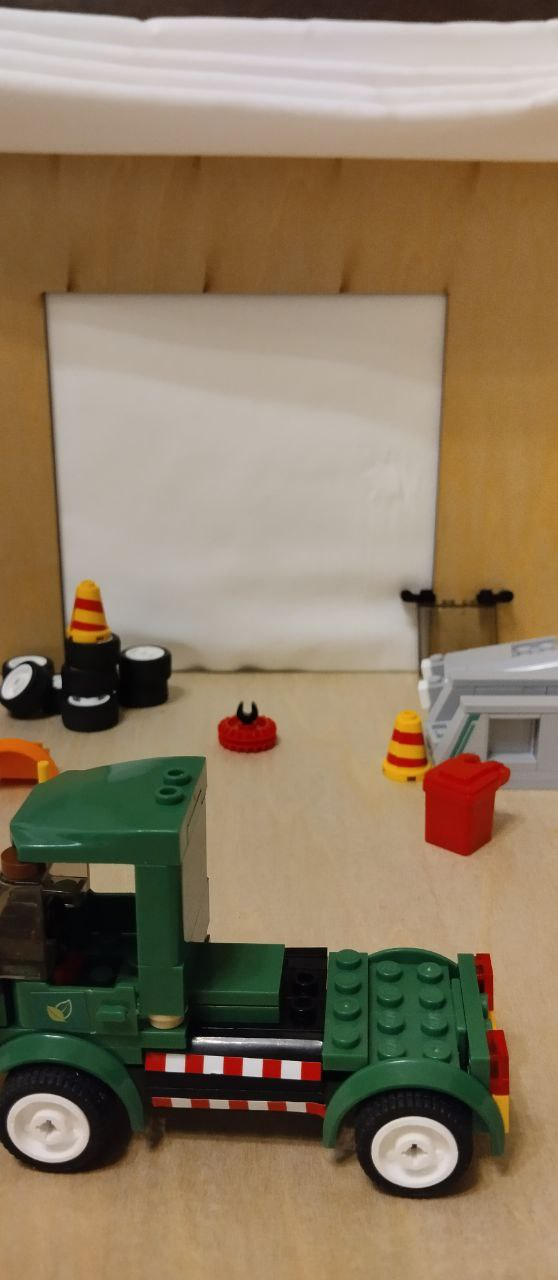Cone: (377, 710, 436, 779), (63, 581, 116, 657)
Object Red: (418, 756, 517, 858)
Truck: (6, 752, 535, 1206)
